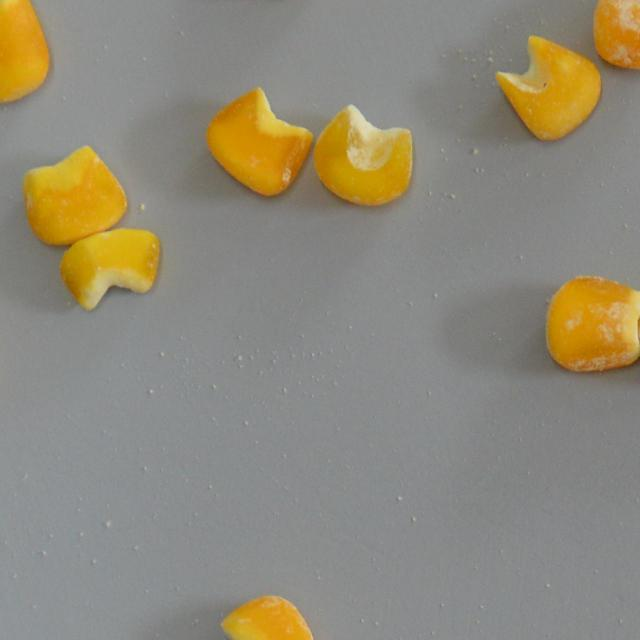dañado: (202, 86, 313, 202), (538, 268, 640, 376), (56, 226, 166, 314), (590, 0, 640, 74)
no_canjicado: (0, 0, 56, 110)
pelicula: (18, 142, 128, 248), (310, 102, 416, 210), (216, 593, 320, 640)
punto_negro: (490, 32, 604, 145)
